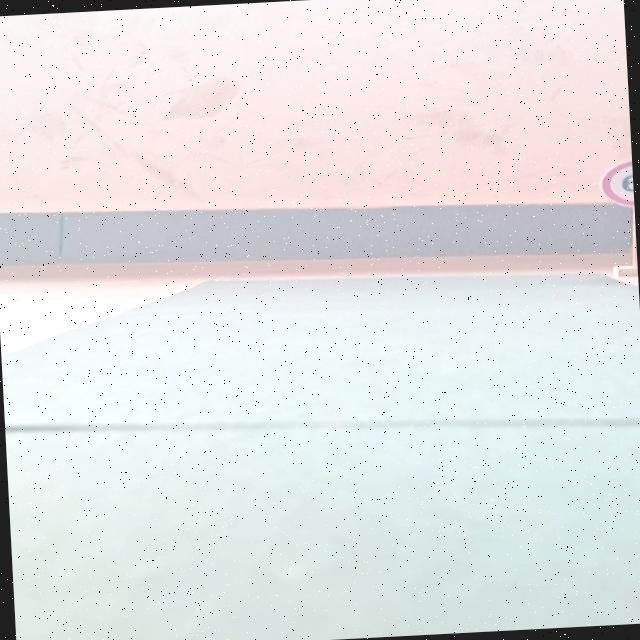Speed60: (596, 157, 635, 210)
